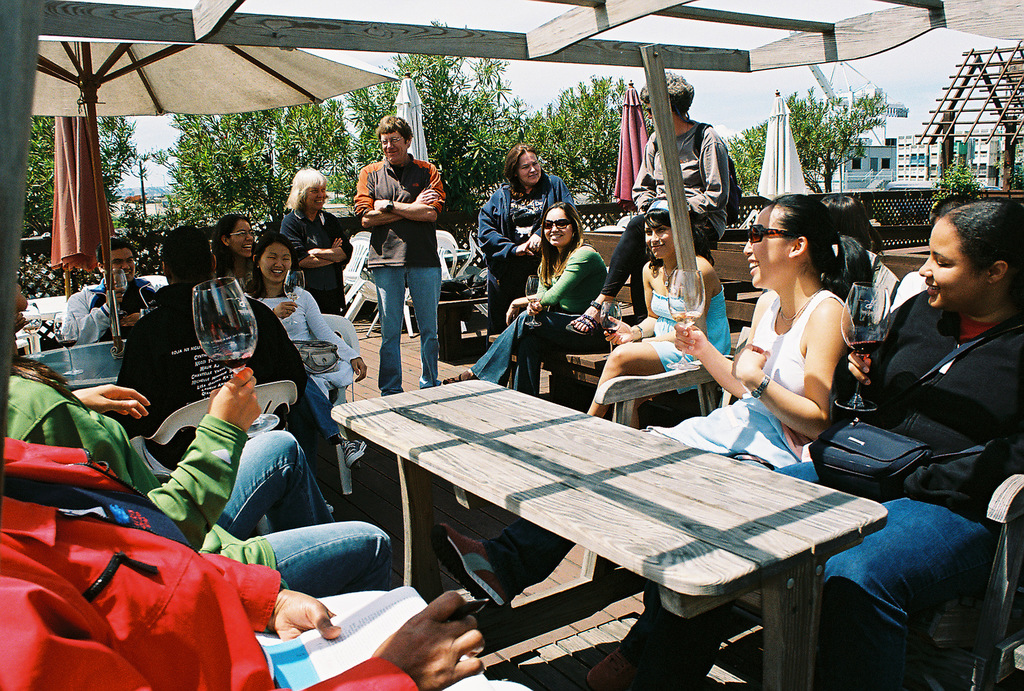Human_hand: (369, 590, 511, 688), (206, 364, 266, 434), (269, 591, 344, 643), (84, 379, 152, 423), (732, 347, 765, 386), (673, 319, 707, 356), (601, 315, 636, 348), (847, 349, 874, 389), (272, 301, 300, 322), (504, 302, 521, 328), (415, 188, 438, 207), (352, 359, 369, 383), (120, 313, 142, 331), (113, 288, 130, 308), (527, 301, 543, 321), (372, 200, 382, 209), (333, 239, 344, 247)
